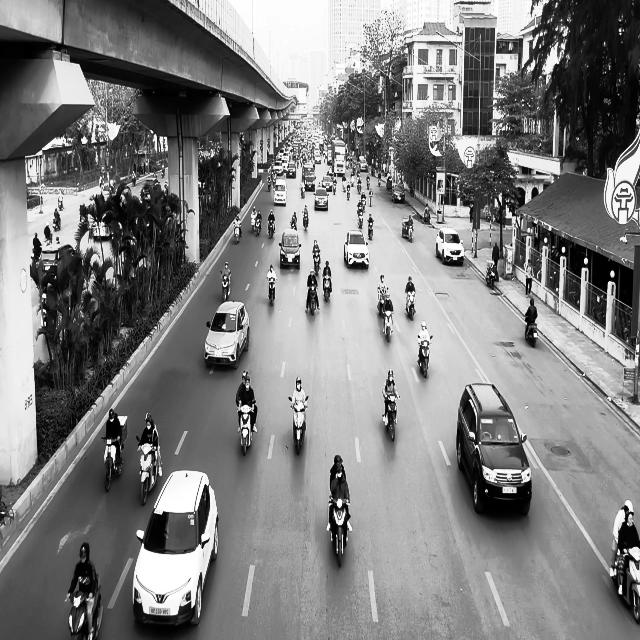bus: (333, 139, 346, 176)
car: (132, 469, 219, 628), (457, 382, 532, 516), (204, 301, 250, 369), (436, 227, 464, 265), (344, 230, 369, 268), (279, 228, 302, 269), (274, 178, 287, 206), (314, 188, 328, 210), (392, 184, 406, 202)
motorbike: (610, 544, 640, 623), (66, 582, 104, 640), (136, 436, 161, 506), (328, 496, 351, 567), (102, 435, 125, 492), (288, 395, 308, 455), (237, 400, 256, 456), (383, 394, 400, 442), (418, 334, 433, 378), (524, 314, 538, 347), (383, 307, 393, 342), (486, 260, 498, 288), (405, 290, 416, 320), (221, 270, 231, 302), (308, 283, 318, 315), (378, 287, 388, 315), (323, 273, 332, 302), (267, 278, 276, 305), (312, 249, 320, 274), (234, 222, 242, 244), (268, 219, 276, 238), (254, 218, 262, 236), (302, 210, 308, 230), (368, 218, 373, 240)
